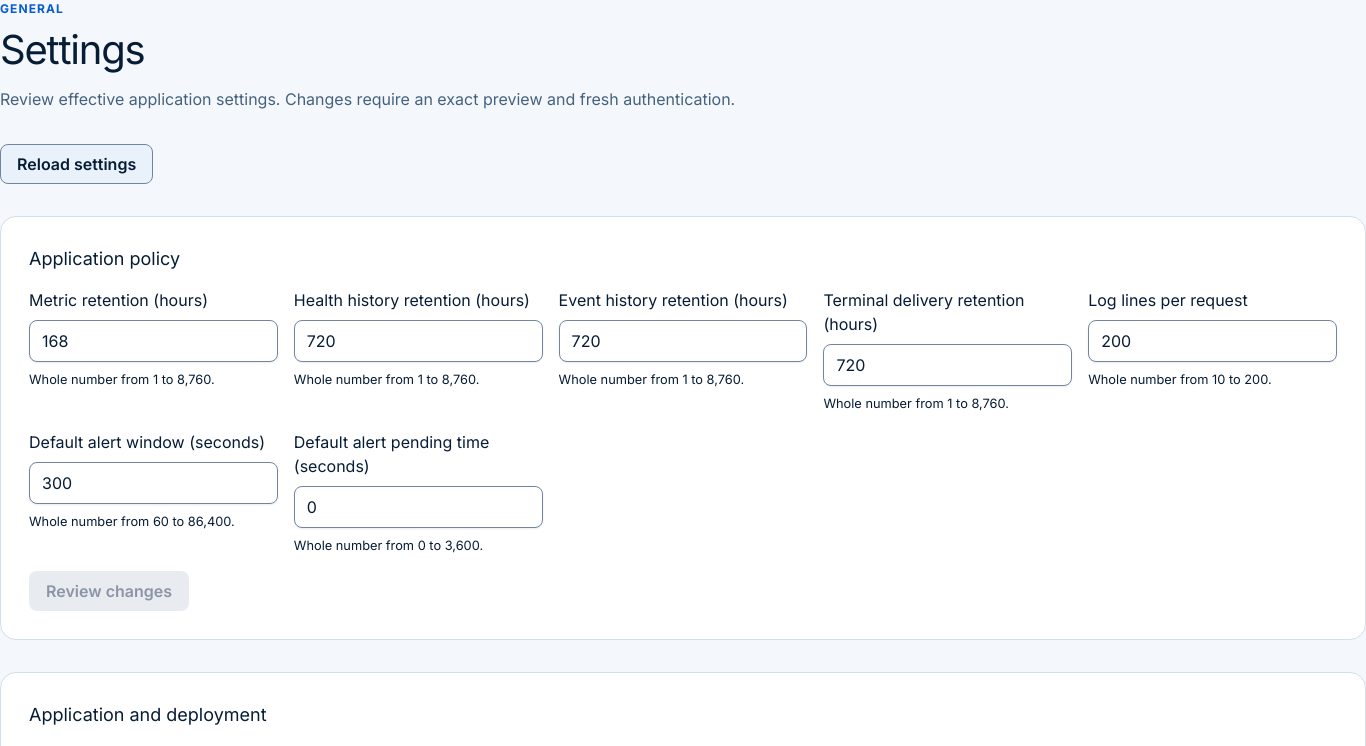
Test case: application settings and destructive reviews › reviews the full ongoing retention effect, freezes scope and submits once with a cleared password
The image size is (1366, 746).
Replace the text in the number field labelled "Metric retention (hours)" with "1" at coordinates (153, 341), box [29,320,278,362]
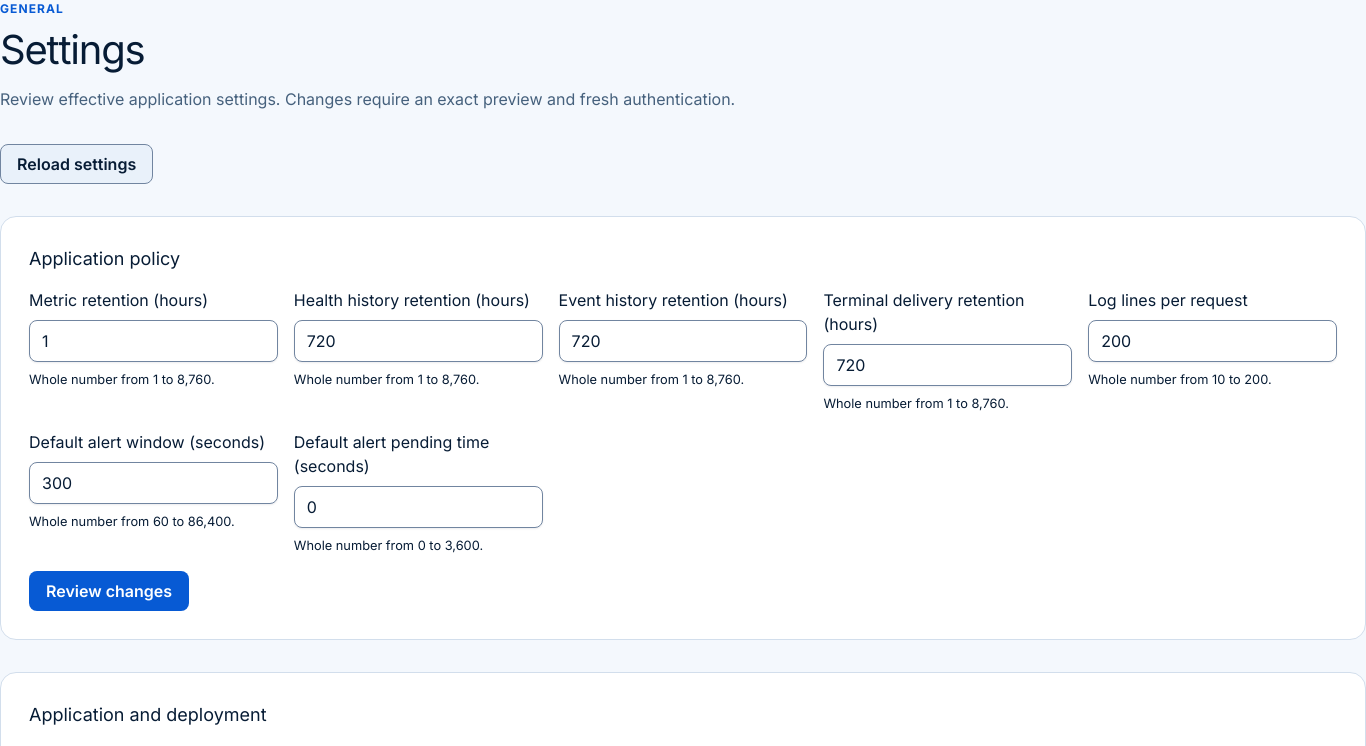
Click the button "Review changes" at coordinates (109, 591), box [29,571,189,611]
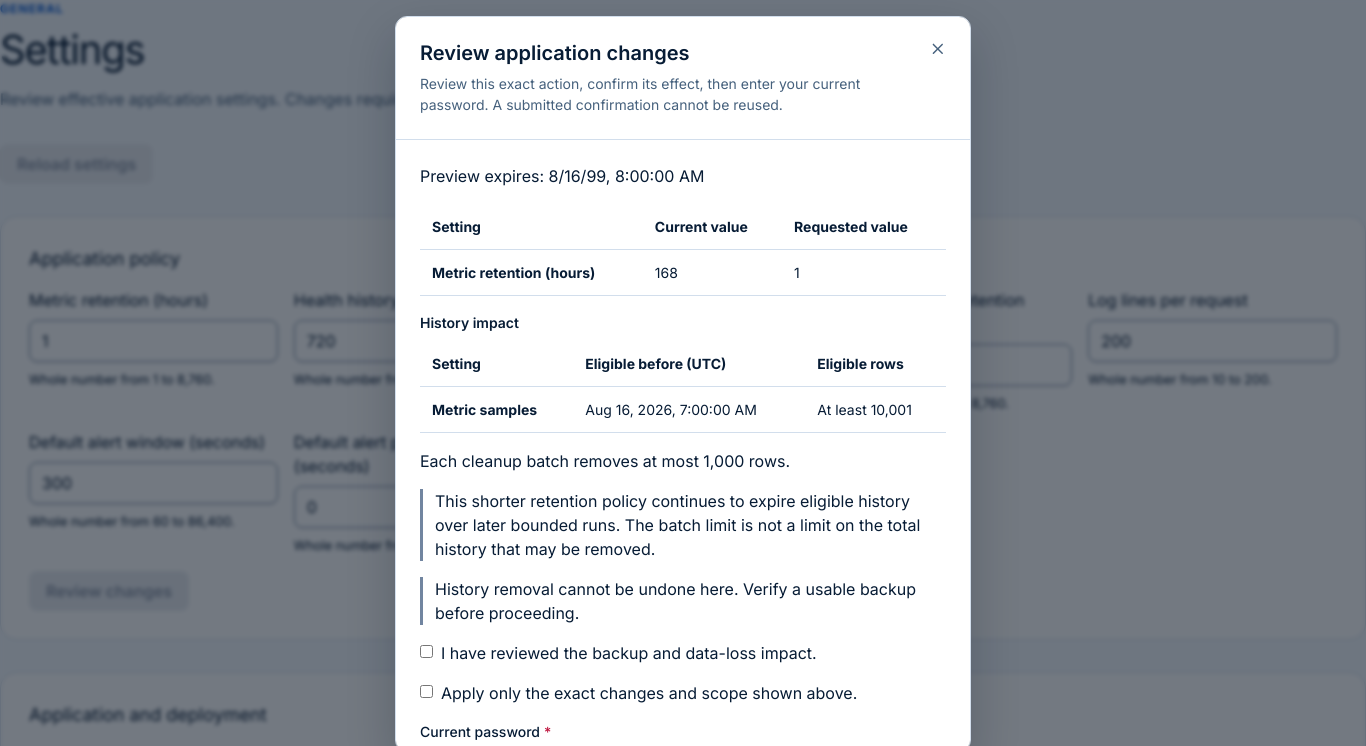
Check: the text "At least 10,001" is shown, box [805,386,946,432]
Check: the text "not a limit on the total history" is shown, box [435,491,920,559]
Click the checkbox labelled "I have reviewed the backup and data-loss impact." at coordinates (426, 652), box [420,645,433,658]
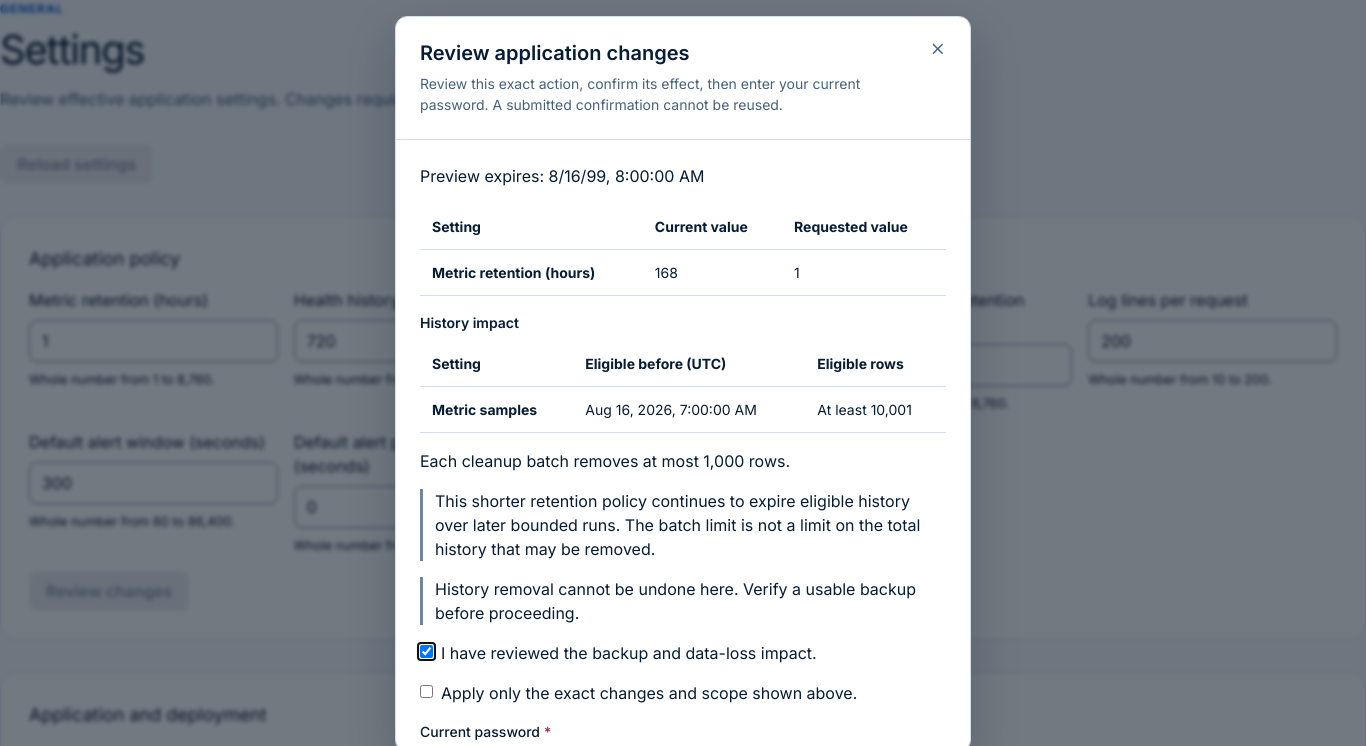
Click the checkbox labelled "Apply only the exact changes and scope shown above." at coordinates (426, 692), box [420,685,433,698]
(page scrolled)
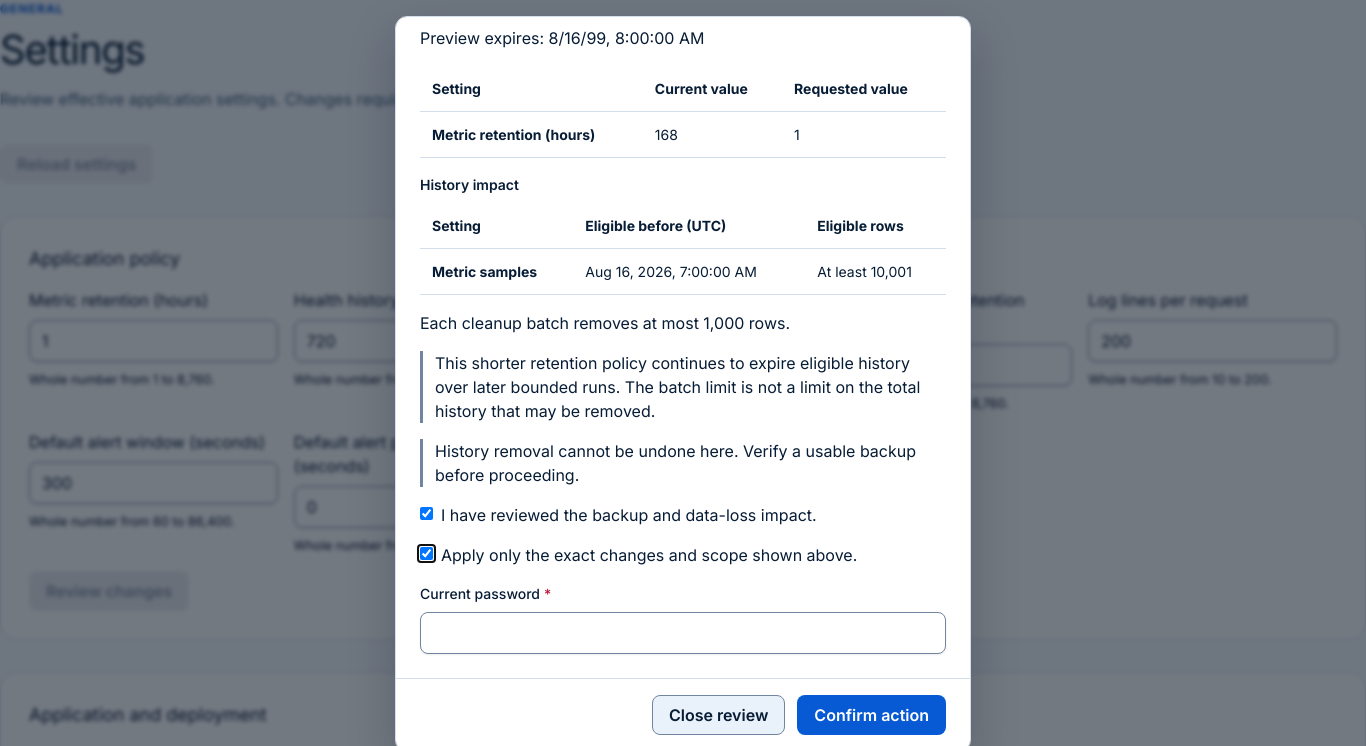
Type "fixture-password-123" into the password field labelled "Current password*" at coordinates (683, 633), box [420,612,946,654]
Click the button "Confirm action" at coordinates (872, 715), box [797,695,946,735]
(page scrolled)
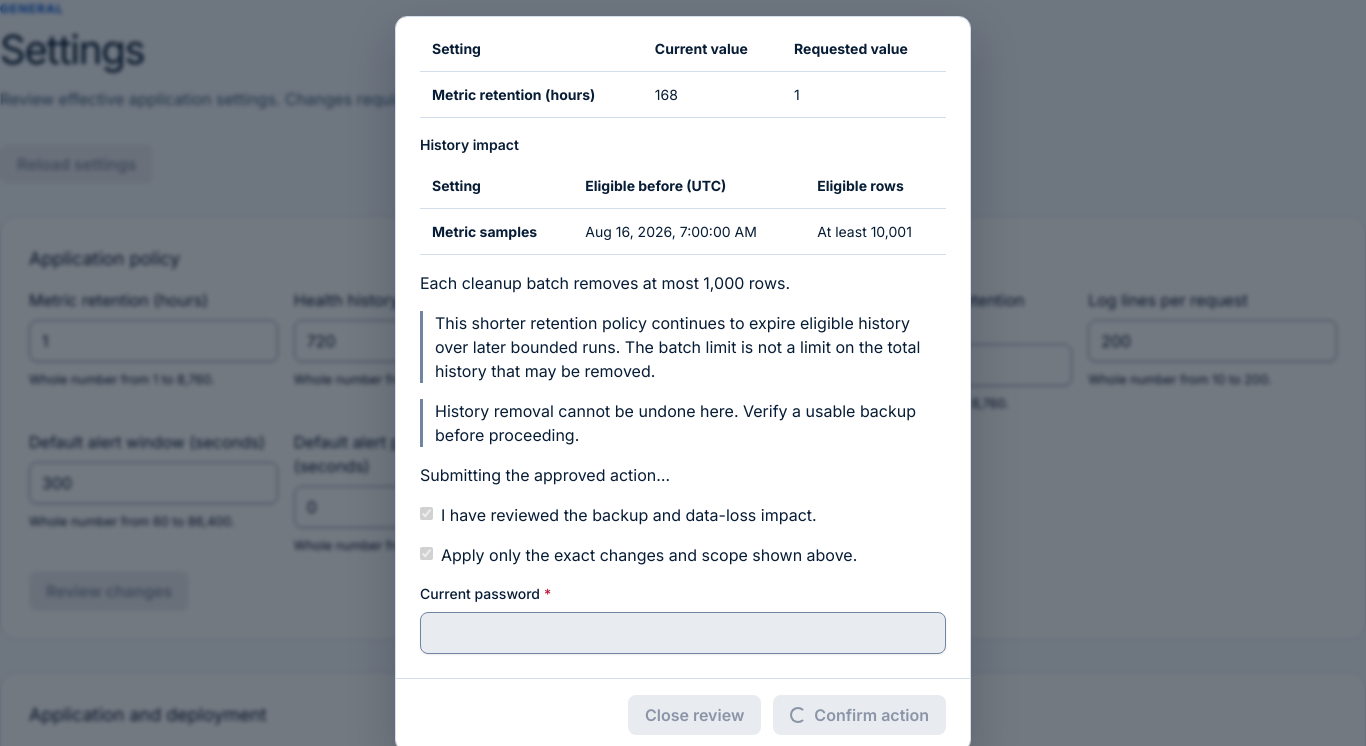
Check: the password field labelled "Current password*" is empty, box [420,612,946,654]
Click the button "Confirm action" at coordinates (860, 715), box [773,695,946,735]
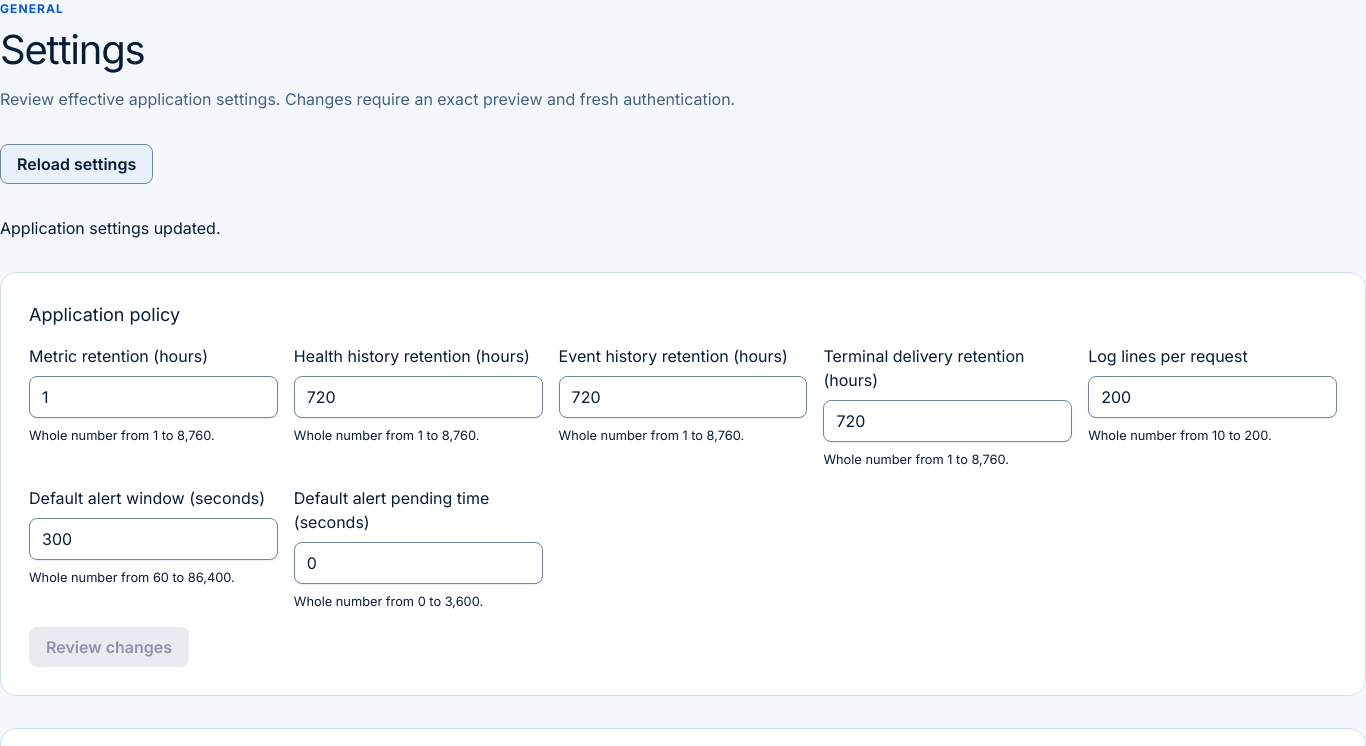
Check: the text "Application settings updated." is shown, box [0,218,220,238]
